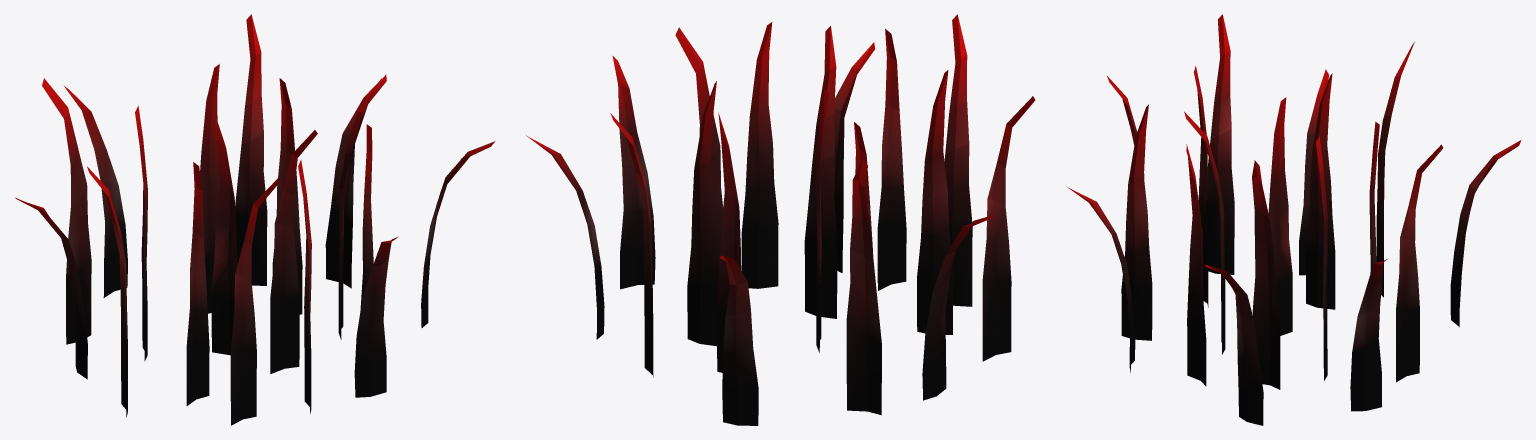
File: weed.fbx
The picture shows the model from 3 angles, left to right: view 1: azimuth 30°, elevation 25°; view 2: azimuth 150°, elevation 25°; view 3: azimuth 270°, elevation 25°; orthographic projection. The views are drawn at different scales.
Parts seen in each view (by area): view 1: Plane.003; view 2: Plane.003; view 3: Plane.003.
Part boxes in pixels (<box>): Plane.003: <box>15,14,495,425</box>; Plane.003: <box>526,14,1035,425</box>; Plane.003: <box>1066,14,1521,425</box>.
Size of the model in its own units: 147 by 85.03 by 145.
